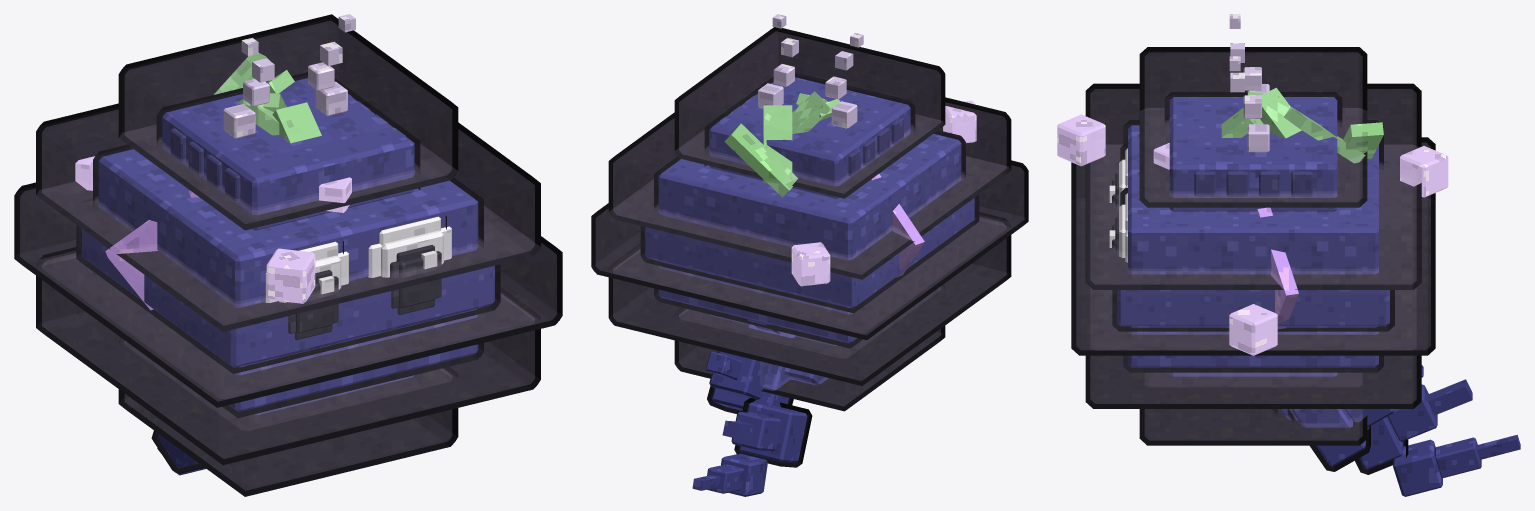
File: cosmic_spirit_07.glb
3 renders of one model, left to right at view 1: azimuth 30°, elevation 25°; view 2: azimuth 150°, elevation 25°; view 3: azimuth 270°, elevation 25°, orthographic. The views are drawn at different scales.
Visible parts, largest first — view 1: model; view 2: model; view 3: model.
Part boxes in pixels (x1,y1,x2,y2): model: (14,14,562,496); model: (591,14,1028,496); model: (1057,14,1520,496).
Bounding box in the file's own units: 1.12 × 1.4 × 1.29.
10 materials, 9 textured.
